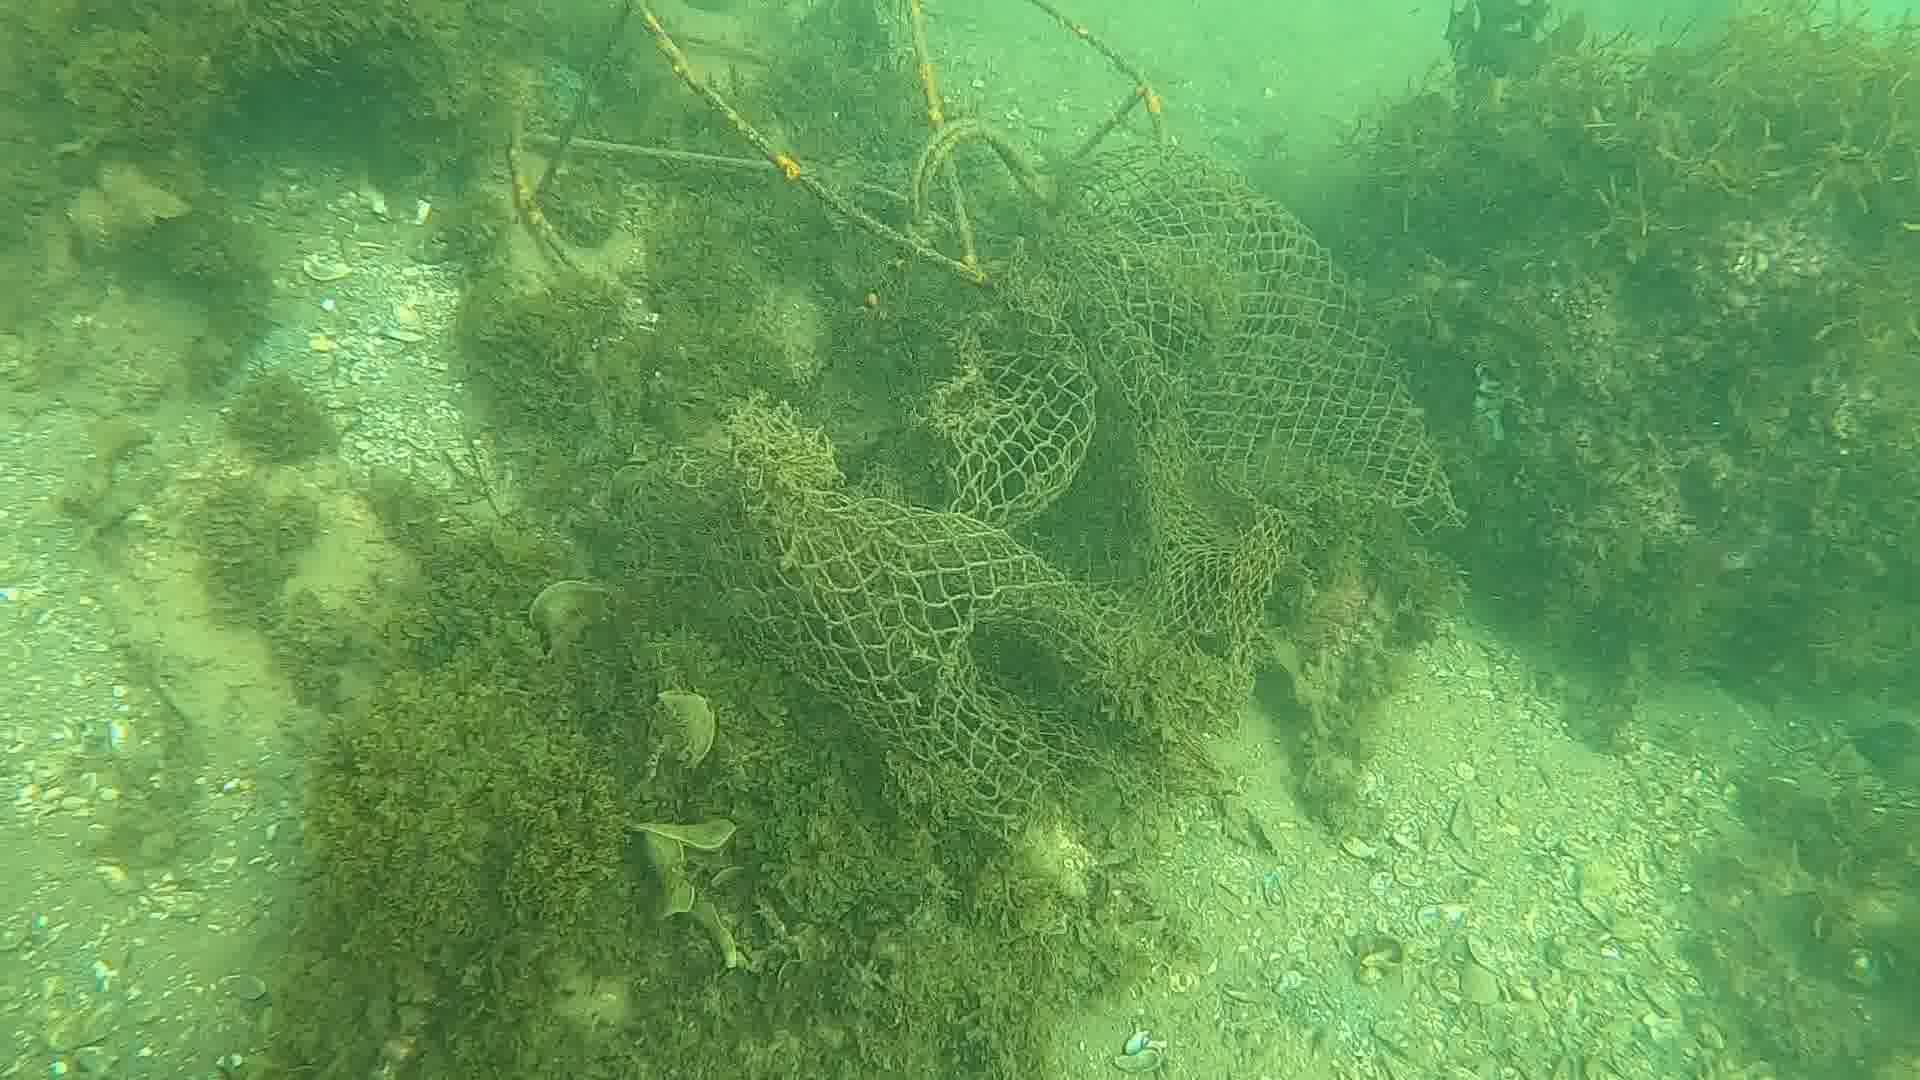bundle of ropes: (909, 115, 1044, 223)
fish net: (663, 138, 1458, 843)
